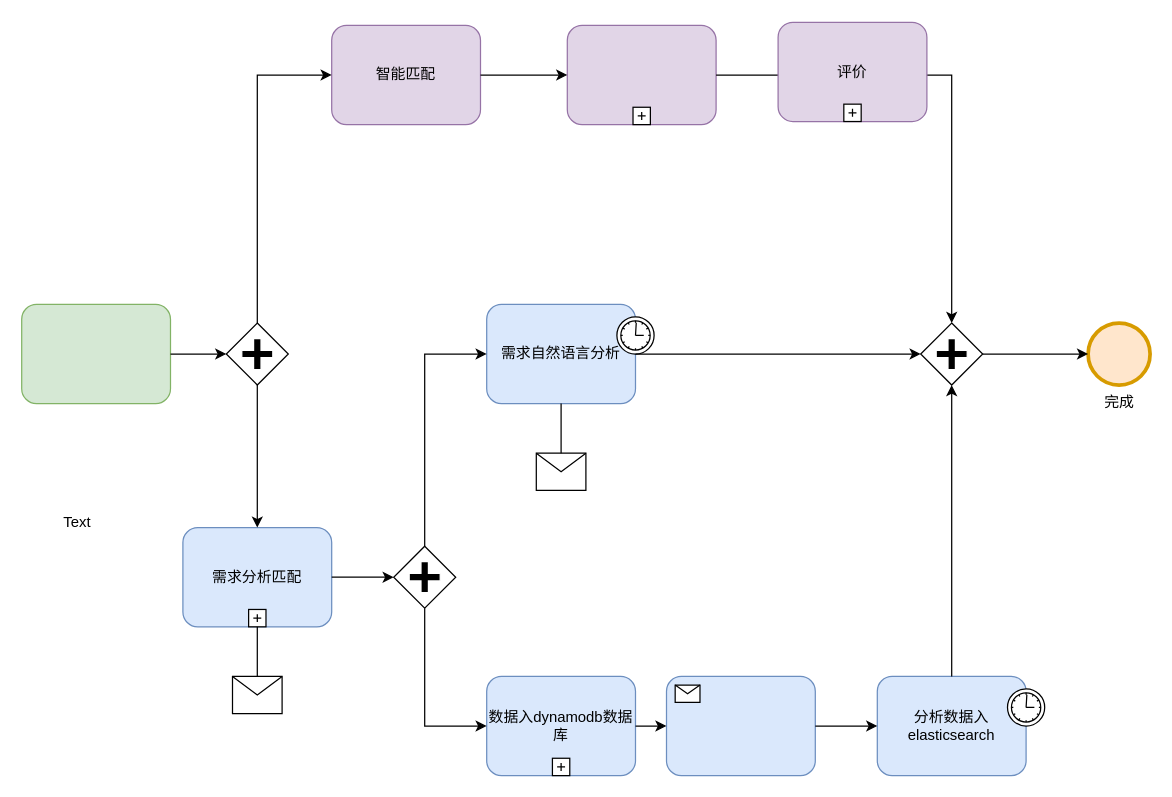
Image size: 1172x797. Some labels were removed from this diagram. Here are the shapes that lost their labels. From the top down, the centre of each, then its label:
the point at 641,74: 支付
the point at 95,353: 需求输入
the point at 740,725: 图片智能分析
